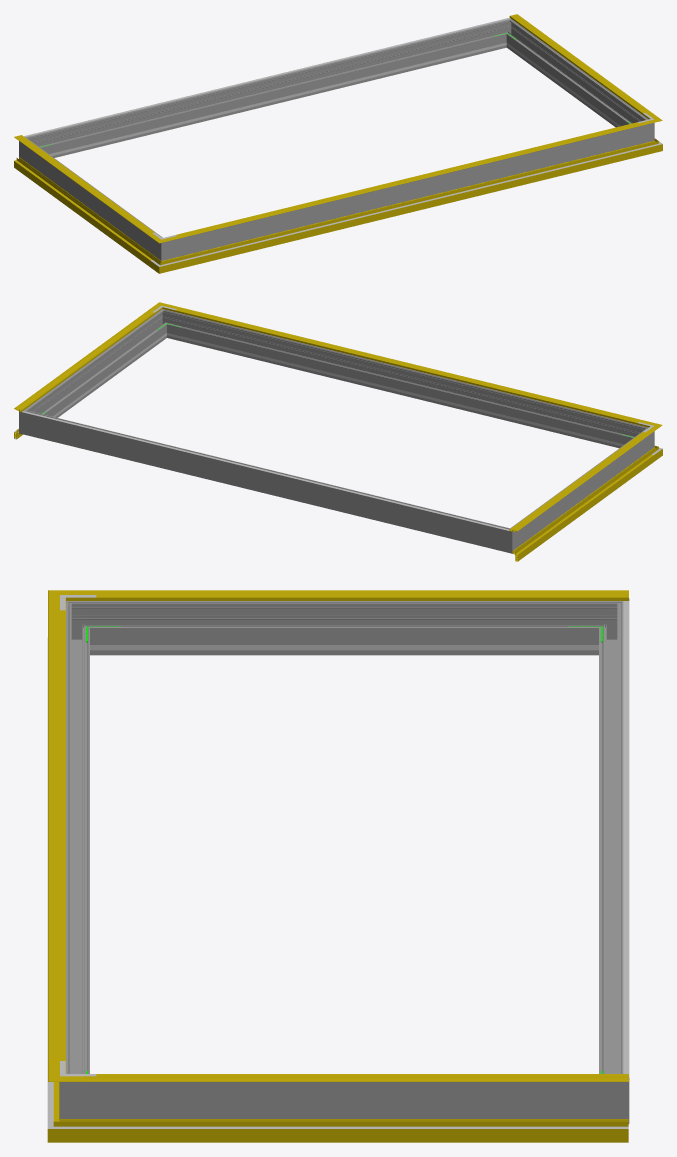
3 renders of one model, top to bottom at view 1: azimuth 30°, elevation 25°; view 2: azimuth 150°, elevation 25°; view 3: azimuth 270°, elevation 25°, orthographic. The views are drawn at different scales.
Visible parts, largest first — view 1: 3DGeom-276, 3DGeom-298, 3DGeom-90, 3DGeom-297, 3DGeom-268, 3DGeom-141, 3DGeom-85, 3DGeom-244, 3DGeom-145, 3DGeom-220, 3DGeom-100, 3DGeom-158 (+5 smaller); view 2: 3DGeom-298, 3DGeom-276, 3DGeom-297, 3DGeom-141, 3DGeom-268, 3DGeom-85, 3DGeom-239, 3DGeom-145, 3DGeom-220, 3DGeom-158, 3DGeom-147, 3DGeom-278 (+4 smaller); view 3: 3DGeom-268, 3DGeom-297, 3DGeom-97, 3DGeom-276, 3DGeom-298, 3DGeom-141, 3DGeom-147, 3DGeom-220, 3DGeom-145, 3DGeom-158, 3DGeom-232, 3DGeom-98 (+7 smaller).
Boxes of the visible parts, bbox=[...] form: 3DGeom-276: bbox=[36, 22, 503, 157]; 3DGeom-298: bbox=[177, 126, 638, 256]; 3DGeom-90: bbox=[172, 143, 647, 269]; 3DGeom-297: bbox=[508, 24, 642, 127]; 3DGeom-268: bbox=[28, 143, 156, 253]; 3DGeom-141: bbox=[172, 122, 646, 239]; 3DGeom-85: bbox=[14, 157, 155, 266]; 3DGeom-244: bbox=[55, 46, 491, 155]; 3DGeom-145: bbox=[509, 14, 653, 116]; 3DGeom-220: bbox=[24, 17, 510, 137]; 3DGeom-100: bbox=[174, 147, 646, 262]; 3DGeom-158: bbox=[176, 122, 638, 235]; 3DGeom-298: bbox=[169, 312, 637, 448]; 3DGeom-276: bbox=[34, 413, 499, 549]; 3DGeom-297: bbox=[30, 314, 165, 417]; 3DGeom-141: bbox=[170, 306, 646, 425]; 3DGeom-268: bbox=[516, 433, 645, 544]; 3DGeom-85: bbox=[512, 451, 653, 561]; 3DGeom-239: bbox=[182, 336, 618, 445]; 3DGeom-145: bbox=[14, 309, 157, 411]; 3DGeom-220: bbox=[22, 411, 509, 530]; 3DGeom-158: bbox=[176, 309, 638, 422]; 3DGeom-147: bbox=[509, 430, 653, 531]; 3DGeom-278: bbox=[496, 524, 521, 553]; 3DGeom-268: bbox=[96, 601, 592, 655]; 3DGeom-297: bbox=[96, 1082, 592, 1118]; 3DGeom-97: bbox=[84, 1119, 628, 1142]; 3DGeom-276: bbox=[599, 614, 623, 1073]; 3DGeom-298: bbox=[66, 614, 89, 1073]; 3DGeom-141: bbox=[48, 605, 65, 1065]; 3DGeom-147: bbox=[84, 590, 628, 600]; 3DGeom-220: bbox=[623, 601, 629, 1077]; 3DGeom-145: bbox=[84, 1076, 628, 1081]; 3DGeom-158: bbox=[60, 610, 65, 1060]; 3DGeom-232: bbox=[125, 645, 563, 650]; 3DGeom-98: bbox=[84, 1126, 628, 1128].
Bounding box in the file's own units: 4.88 × 0.2829 × 2.44.
